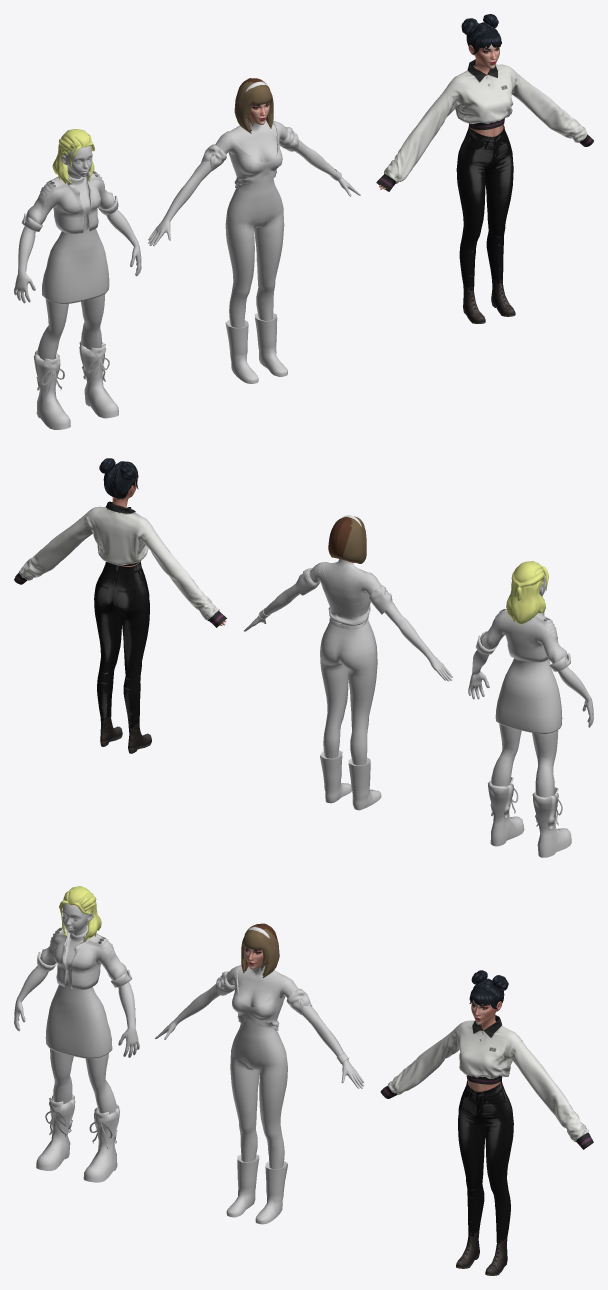
File: 3_girls.fbx
The picture shows the model from 3 angles, top to bottom: view 1: azimuth 30°, elevation 25°; view 2: azimuth 150°, elevation 25°; view 3: azimuth 330°, elevation 25°; orthographic projection.
Visible parts, largest first — view 1: SarahEdwards.001, CandyBehr.003, Wolf3D_Outfit_Top.001, Wolf3D_Body.003, Wolf3D_Outfit_Footwear, Hair.006, Wolf3D_Hair, SarahEdwards.006, Wolf3D_Head; view 2: SarahEdwards.001, CandyBehr.003, Wolf3D_Outfit_Top.001, Wolf3D_Body.003, Wolf3D_Outfit_Footwear, Wolf3D_Hair, SarahEdwards.006, Hair.006, Hair.004; view 3: SarahEdwards.001, CandyBehr.003, Wolf3D_Outfit_Top.001, Wolf3D_Body.003, Wolf3D_Outfit_Footwear, Hair.006, Wolf3D_Hair, SarahEdwards.006, Wolf3D_Head.
Part boxes in pixels (x1,y1,x2,y2): SarahEdwards.001: (376, 44, 593, 323); CandyBehr.003: (148, 120, 360, 383); Wolf3D_Outfit_Top.001: (21, 166, 118, 303); Wolf3D_Body.003: (14, 209, 141, 360); Wolf3D_Outfit_Footwear: (34, 341, 118, 429); Hair.006: (234, 80, 273, 133); Wolf3D_Hair: (52, 129, 94, 184); SarahEdwards.006: (461, 14, 501, 54); Wolf3D_Head: (61, 146, 92, 178); SarahEdwards.001: (14, 481, 226, 753); CandyBehr.003: (244, 559, 452, 810); Wolf3D_Outfit_Top.001: (476, 609, 570, 733); Wolf3D_Body.003: (468, 650, 593, 797); Wolf3D_Outfit_Footwear: (488, 777, 571, 857); Wolf3D_Hair: (506, 561, 548, 625); SarahEdwards.006: (99, 458, 138, 498); Hair.006: (328, 516, 366, 563); Hair.004: (328, 517, 352, 557); SarahEdwards.001: (380, 986, 593, 1275); CandyBehr.003: (155, 965, 364, 1224); Wolf3D_Outfit_Top.001: (37, 922, 131, 1058); Wolf3D_Body.003: (14, 965, 139, 1114); Wolf3D_Outfit_Footwear: (36, 1094, 119, 1182); Hair.006: (241, 924, 279, 977); Wolf3D_Hair: (59, 886, 101, 942); SarahEdwards.006: (469, 970, 508, 1009); Wolf3D_Head: (62, 903, 93, 935).
Size of the model in its own units: 6622 by 3193 by 566.
